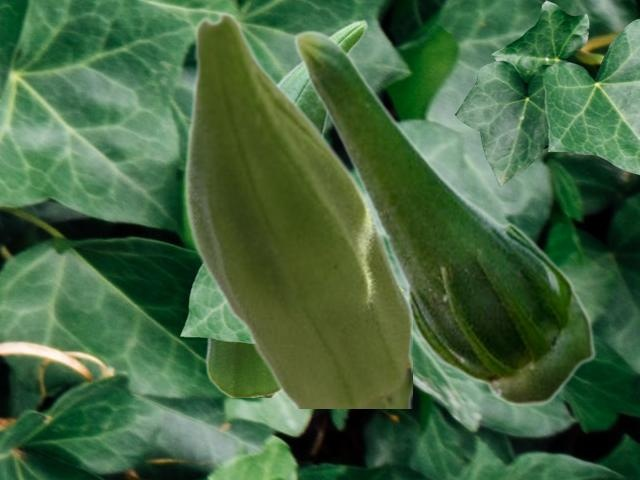okra: (293, 29, 595, 406), (183, 11, 411, 407), (204, 19, 367, 396)
